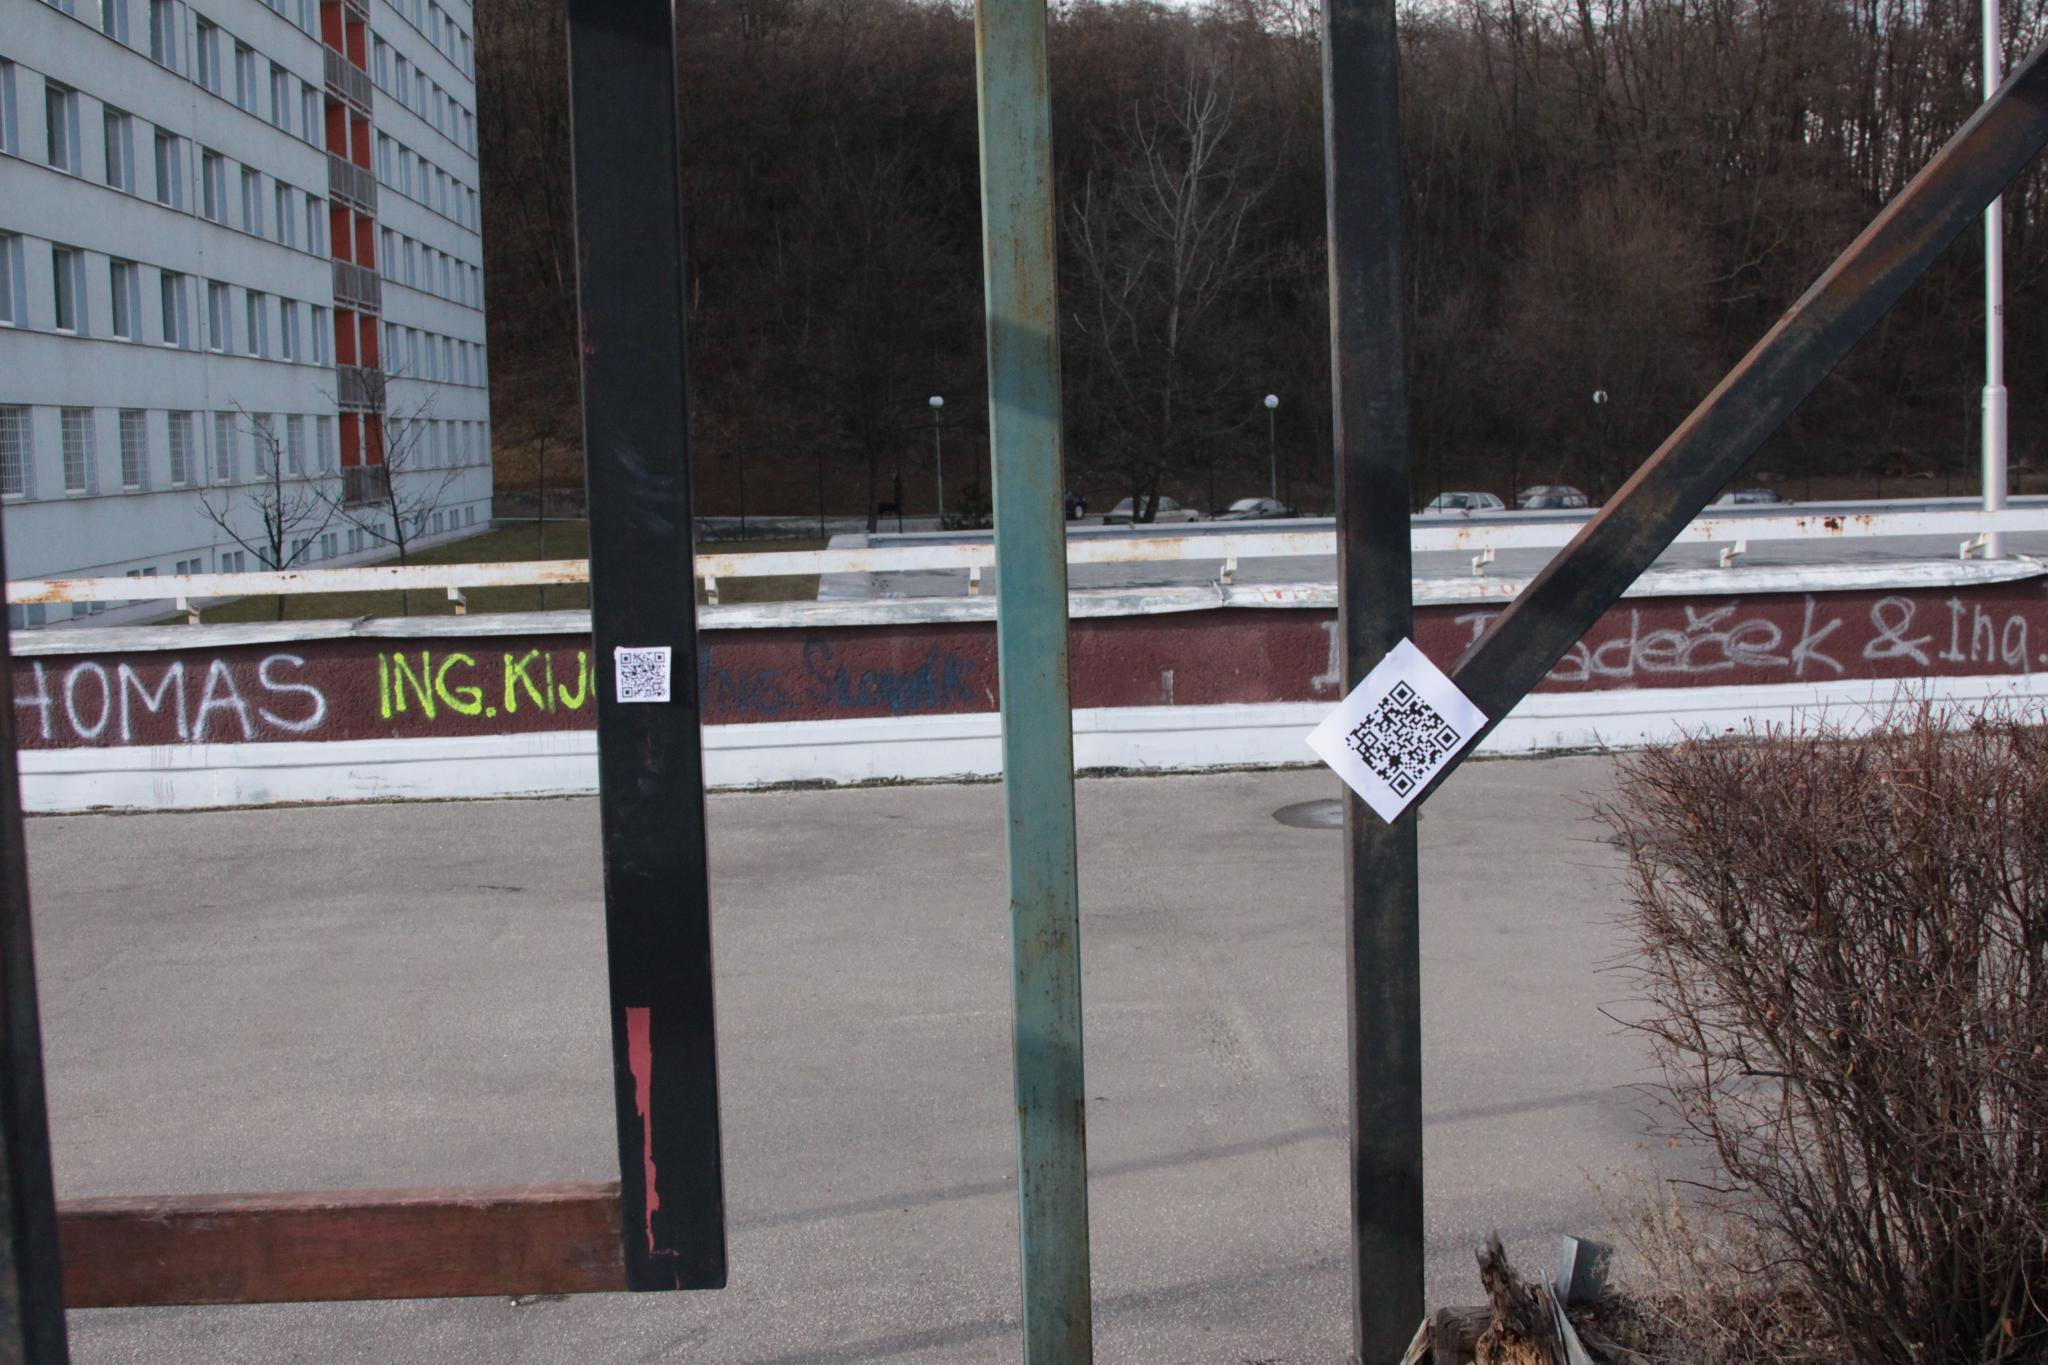Finder pattern: (1387, 676, 1419, 711), (1431, 719, 1463, 754), (1389, 769, 1421, 800), (652, 651, 668, 666), (620, 686, 635, 699), (618, 652, 632, 666)
